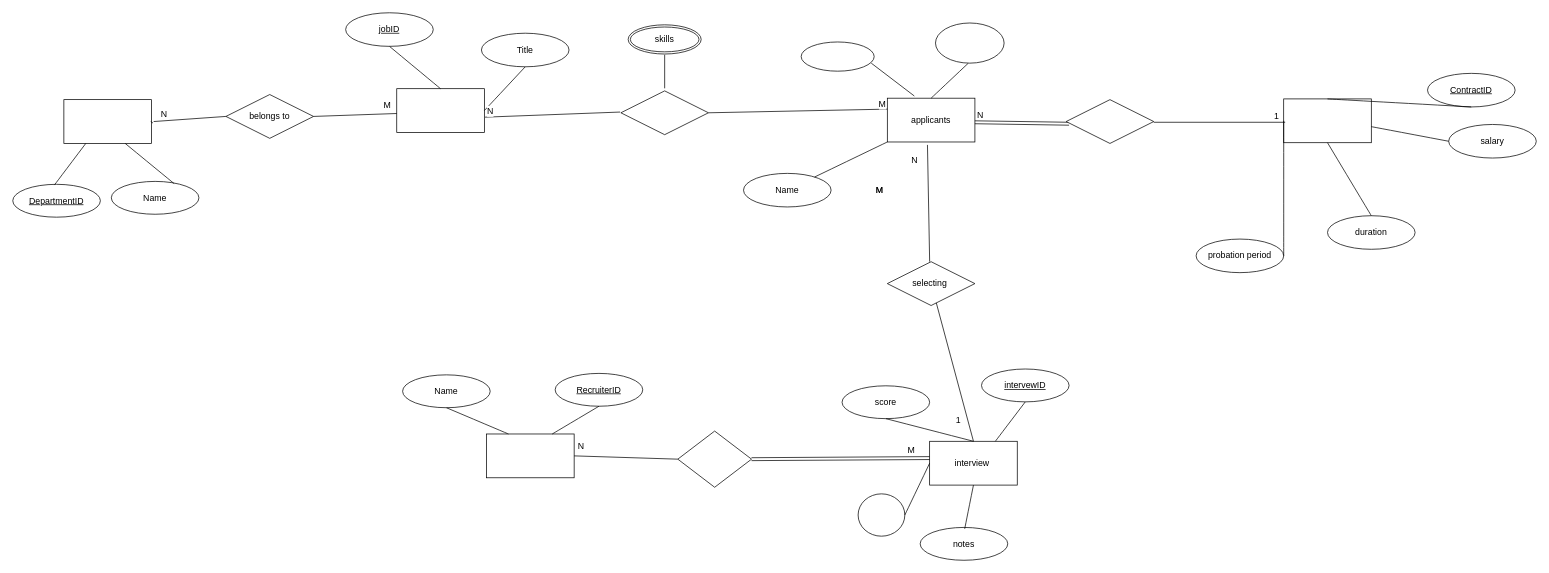
This 1549x573 diagram has some shape labels left out. Here are the shapes that lost their labels. From the top down, the centre of each, then its label:
At pixel 837 56: "cv".
At pixel 969 42: "applicant_id".
At pixel 107 121: "department".
At pixel 440 110: "job".
At pixel 664 112: "apply".
At pixel 1109 121: "offered".
At pixel 1327 120: "contract".
At pixel 530 455: "recruiters".
At pixel 714 458: "connected".
At pixel 881 514: "date".
